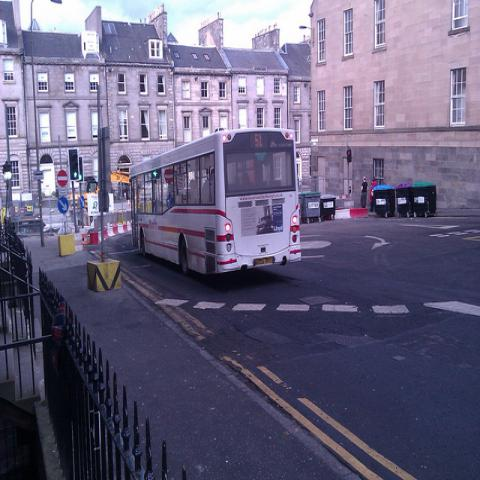bus: (128, 126, 302, 275)
